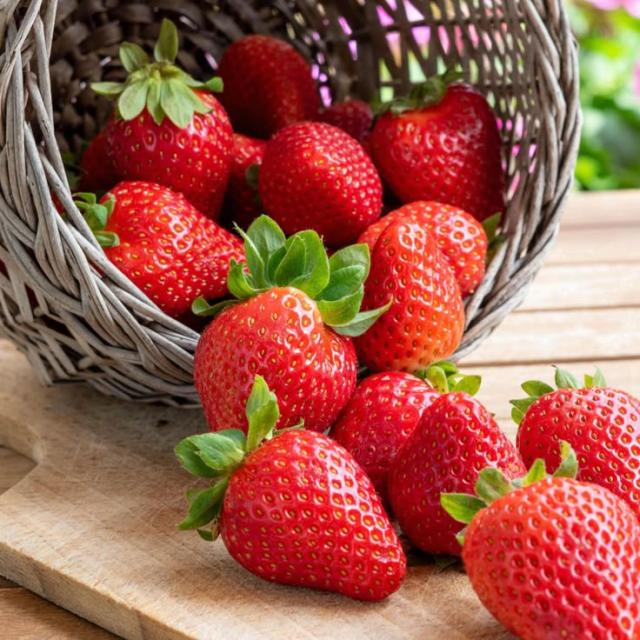strawberry: (176, 376, 406, 600), (194, 216, 383, 431), (443, 447, 639, 639), (93, 20, 232, 219), (77, 181, 244, 318), (388, 392, 526, 554), (329, 363, 479, 502), (370, 74, 505, 220), (512, 369, 639, 515), (356, 220, 464, 372), (259, 122, 382, 246), (359, 201, 487, 297), (218, 34, 319, 139), (224, 134, 266, 229), (318, 100, 373, 152), (77, 129, 119, 193)
